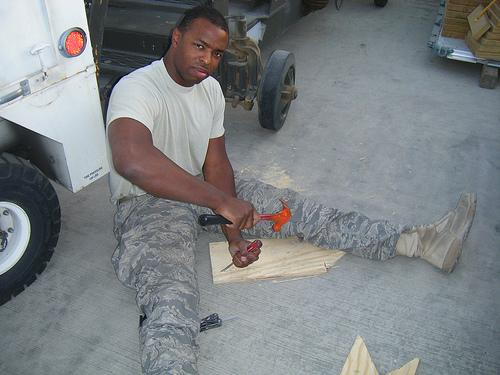hammer: (194, 197, 292, 232)
